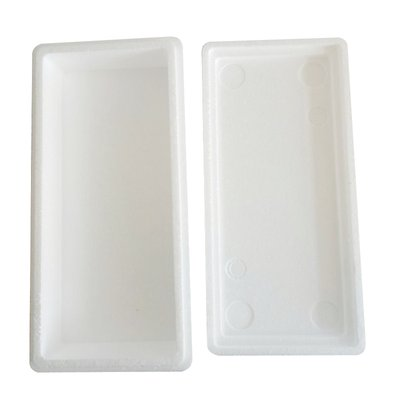5/可回收垃圾/泡沫: (29, 36, 191, 372), (201, 36, 365, 356)
